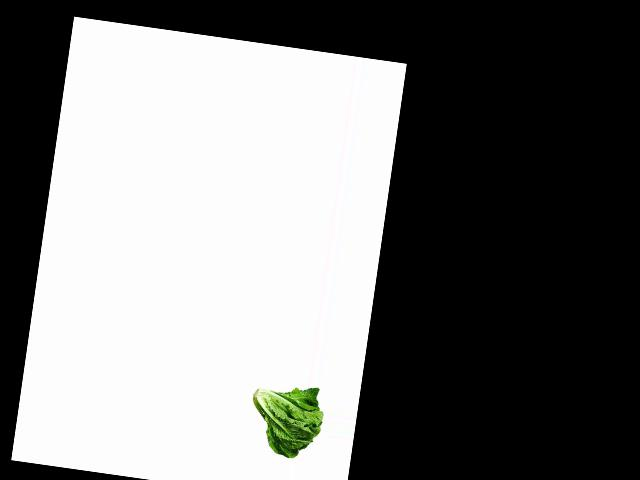lettuce: (241, 379, 327, 463)
